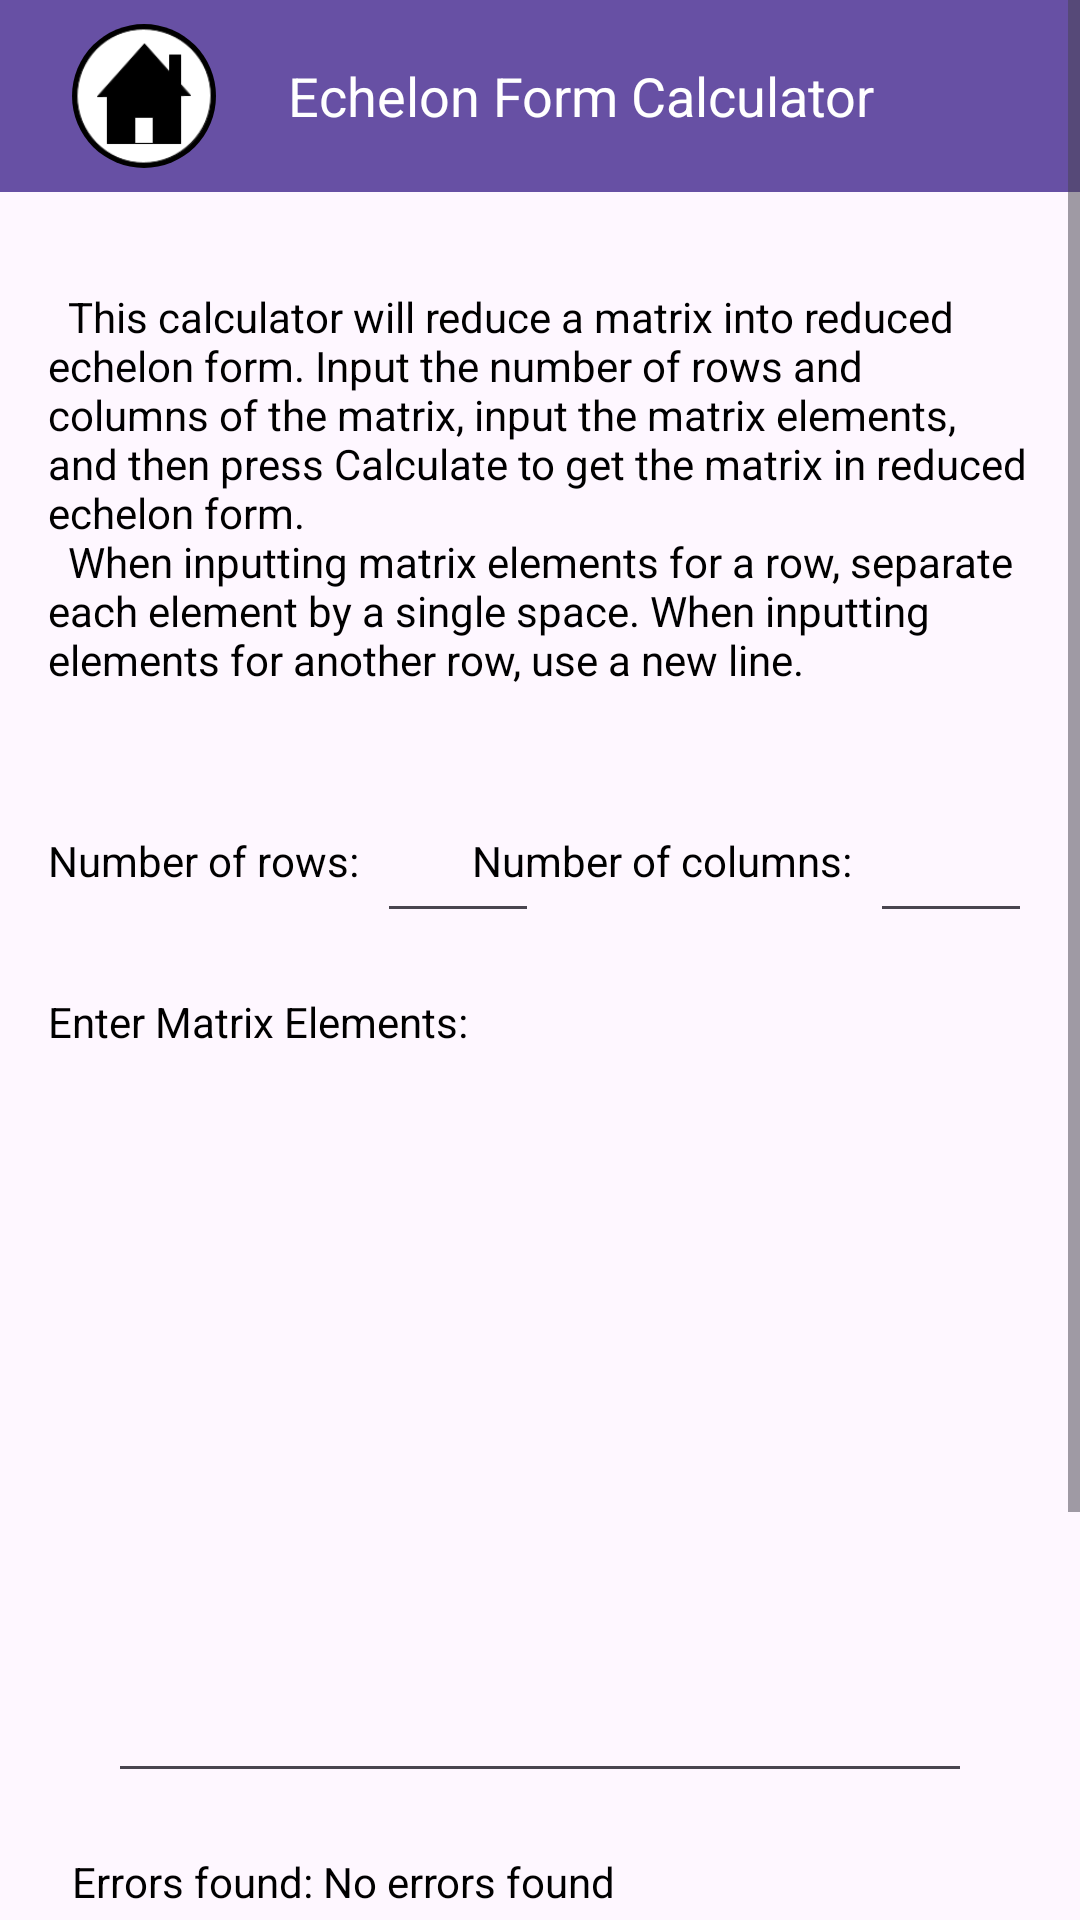

Icons on this 1080×1920 Android screen, each with the point to tap as (x=x, y=y):
Home: (x=144, y=96)
